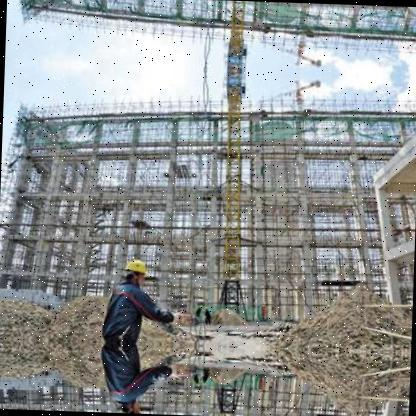capacete: (122, 256, 152, 276)
